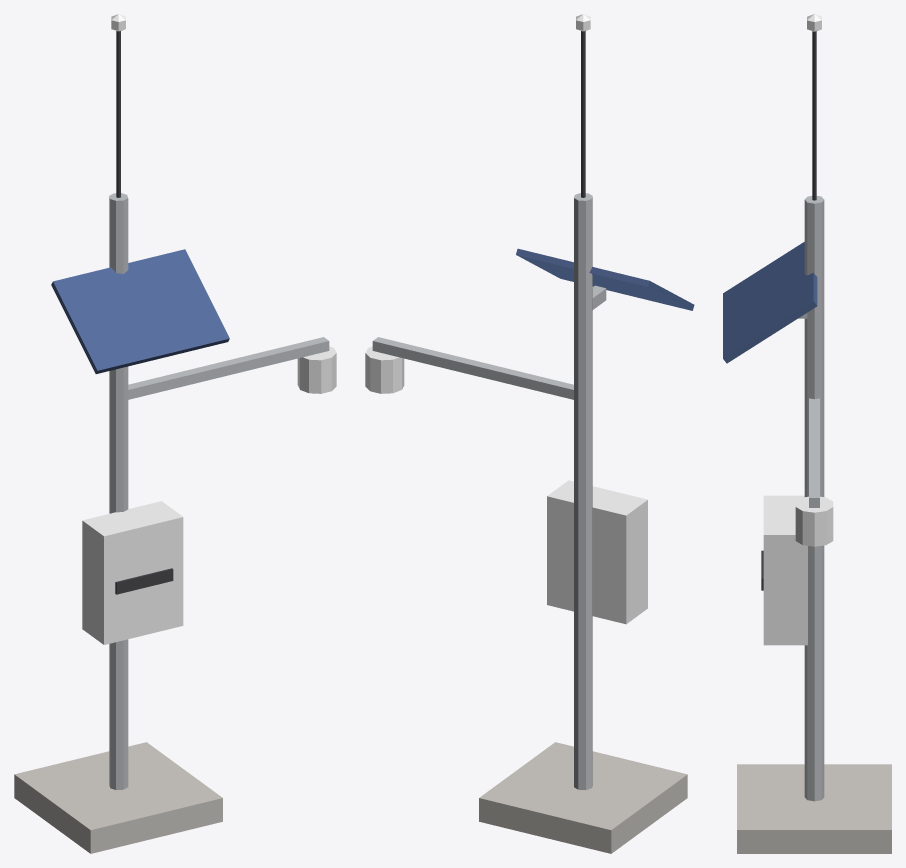
The model's file is stream-gauge-mast.glb.
The picture shows the model from 3 angles, left to right: view 1: azimuth 30°, elevation 25°; view 2: azimuth 150°, elevation 25°; view 3: azimuth 270°, elevation 25°; orthographic projection.
Visible parts, largest first — view 1: stream-gauge-mast; view 2: stream-gauge-mast; view 3: stream-gauge-mast.
Boxes of the visible parts, x1,y1,x2,y2 form: stream-gauge-mast: (14, 14, 336, 853); stream-gauge-mast: (365, 14, 694, 853); stream-gauge-mast: (723, 14, 891, 853).
Size of the model in its own units: 1.49 by 4.03 by 0.7634.
